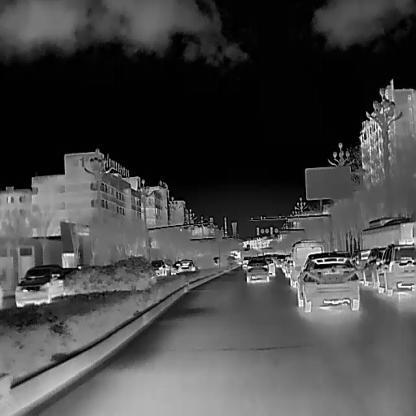car: (295, 253, 359, 311), (15, 264, 66, 309), (375, 241, 416, 296), (290, 239, 323, 289), (360, 245, 387, 288), (245, 255, 269, 281), (348, 249, 370, 269), (149, 259, 165, 277), (263, 255, 275, 277), (177, 259, 194, 273), (169, 261, 183, 274)
